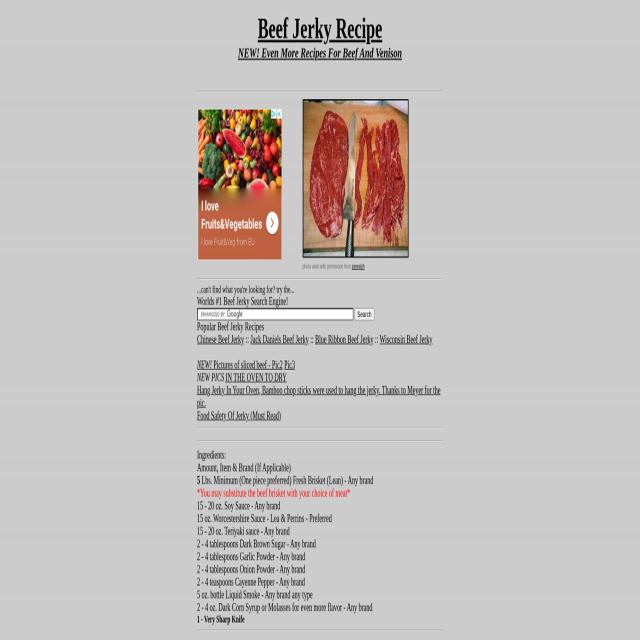button: (302, 99, 408, 257), (198, 110, 281, 261), (266, 212, 279, 235), (354, 308, 374, 320), (276, 110, 282, 118), (271, 110, 276, 118)
field: (197, 308, 353, 320)
